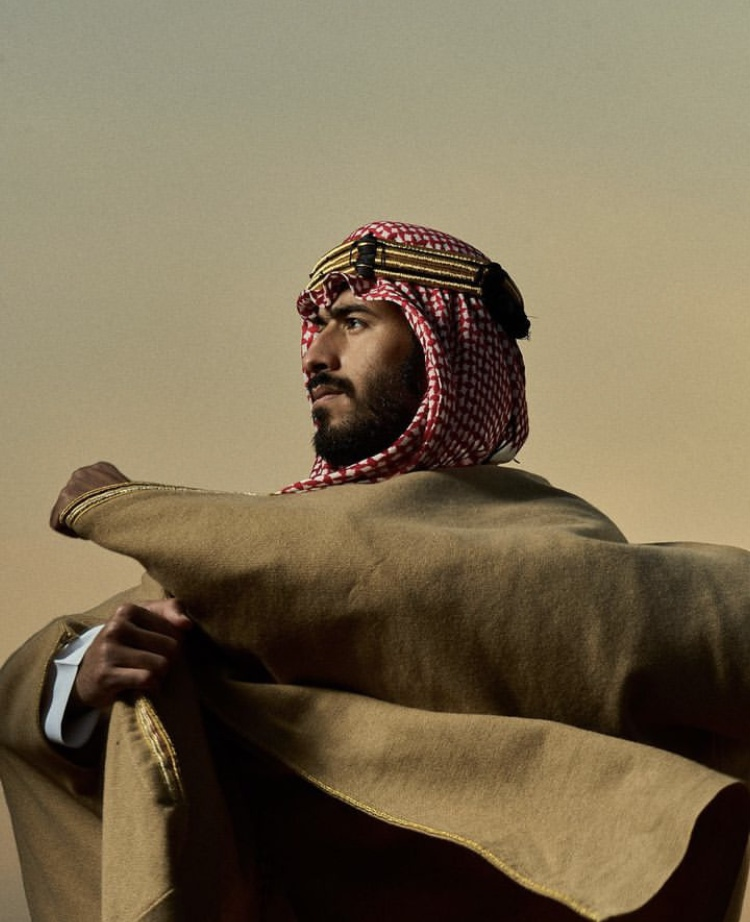Saudi_Founding_Day: (8, 218, 750, 921)
